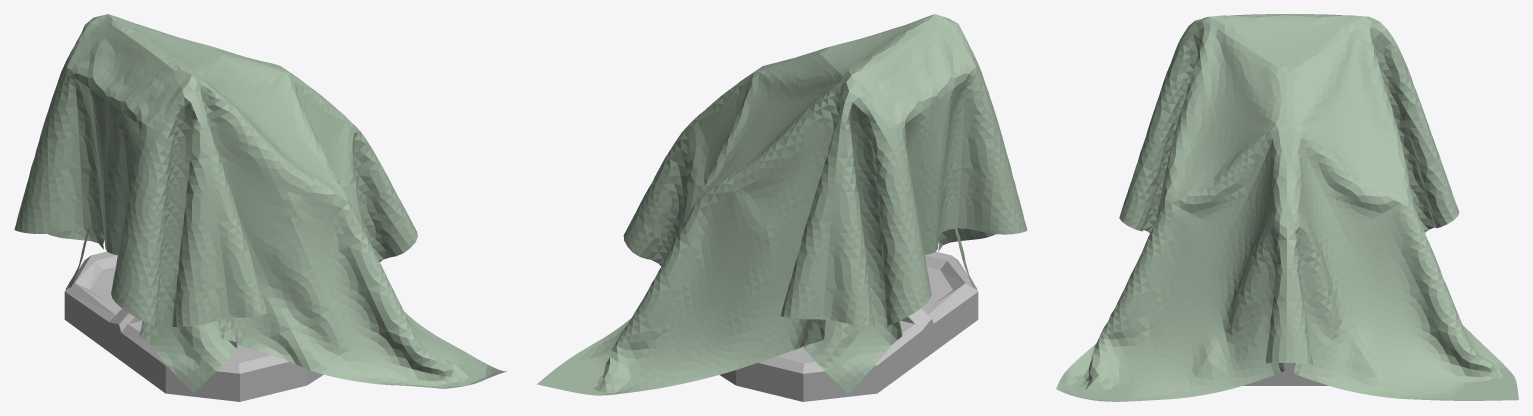
The model's file is level_2.glb.
3 renders of one model, left to right at view 1: azimuth 30°, elevation 25°; view 2: azimuth 150°, elevation 25°; view 3: azimuth 270°, elevation 25°, orthographic. The views are drawn at different scales.
Visible parts, largest first — view 1: world, object.obj; view 2: world, object.obj; view 3: world, object.obj.
Boxes of the visible parts, x1,y1,x2,y2 form: world: (14, 14, 506, 393); object.obj: (64, 251, 323, 401); world: (536, 14, 1027, 395); object.obj: (720, 251, 978, 401); world: (1056, 14, 1518, 401); object.obj: (1243, 363, 1328, 385).
Size of the model in its own units: 0.3601 by 0.3019 by 0.452.
